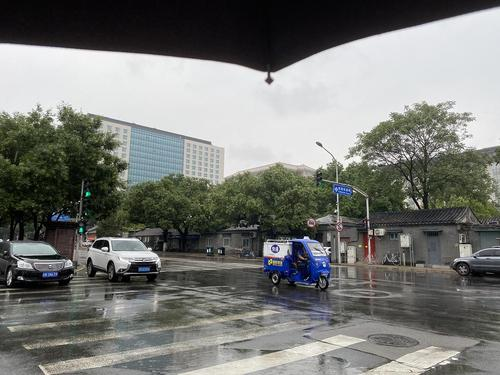bicycle: (381, 251, 399, 267)
car: (2, 239, 76, 290), (87, 234, 162, 282), (449, 245, 500, 281)
motorbike: (262, 237, 331, 293)
person: (295, 245, 311, 282)
traffic light: (82, 188, 93, 217), (314, 170, 324, 191), (77, 217, 87, 237)
